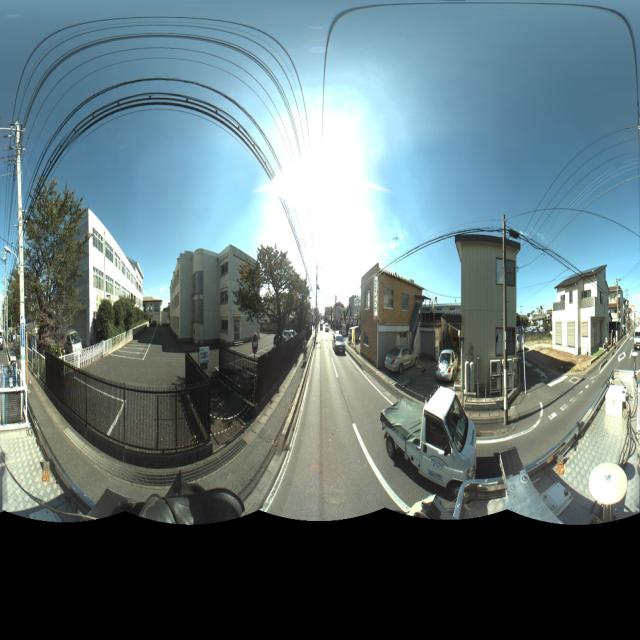b_1: (455, 215, 526, 418), (351, 238, 440, 394), (547, 246, 609, 368), (606, 272, 632, 353)
b_2: (167, 238, 301, 362), (56, 210, 152, 346)
